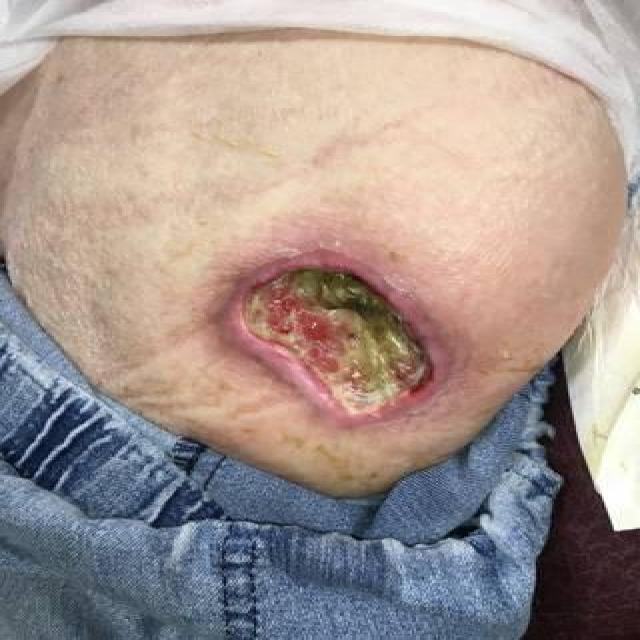Unstageable: (245, 269, 424, 414)
